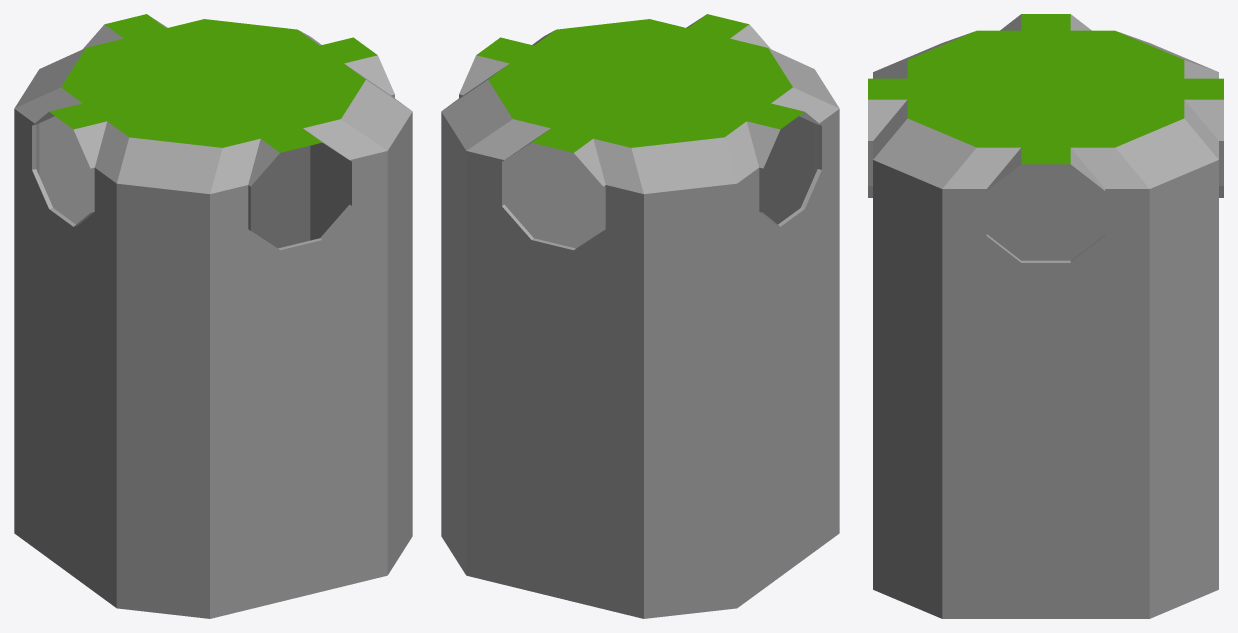
File: Arena Techo.fbx
The picture shows the model from 3 angles, left to right: view 1: azimuth 30°, elevation 25°; view 2: azimuth 150°, elevation 25°; view 3: azimuth 270°, elevation 25°; orthographic projection.
Parts seen in each view (by area): view 1: Arena_techo; view 2: Arena_techo; view 3: Arena_techo.
Boxes of the visible parts, x1,y1,x2,y2 form: Arena_techo: (14, 14, 412, 618); Arena_techo: (441, 14, 839, 618); Arena_techo: (868, 14, 1223, 618).
Bounding box in the file's own units: 72 × 102 × 72.
